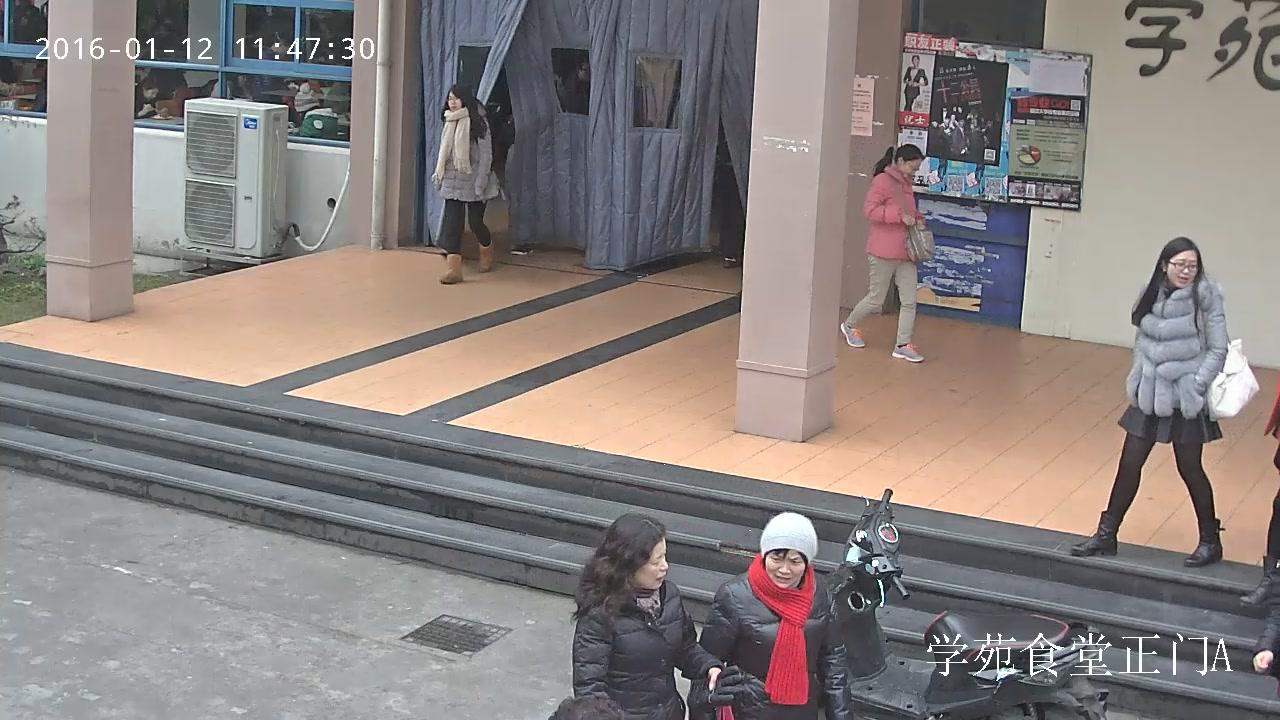person: (1071, 236, 1259, 568), (548, 512, 742, 720), (687, 511, 853, 720), (840, 143, 935, 362), (431, 83, 500, 284), (293, 81, 338, 139), (133, 76, 168, 119), (903, 55, 928, 112)
